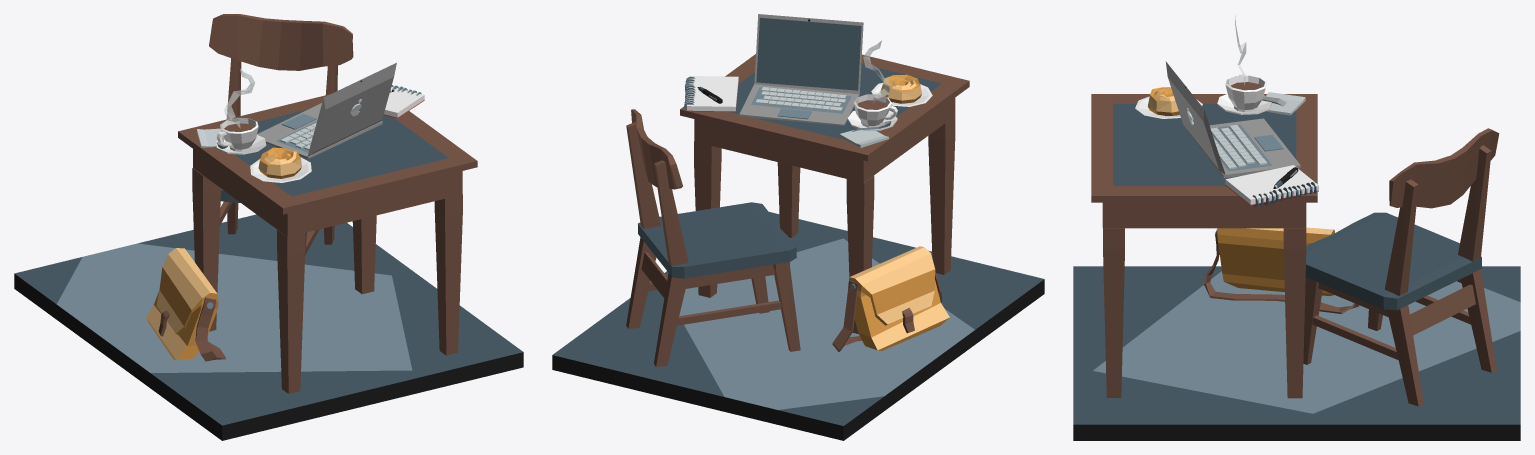
The model's file is WorkCappuccino.glb.
3 views of the same model, side by side, from view 1: azimuth 30°, elevation 25°; view 2: azimuth 150°, elevation 25°; view 3: azimuth 270°, elevation 25° (orthographic). The views are drawn at different scales.
Visible parts, largest first — view 1: group2110028310; view 2: group2110028310; view 3: group2110028310.
Part boxes in pixels (bbox=[...]): group2110028310: bbox=[14, 14, 523, 440]; group2110028310: bbox=[552, 14, 1044, 440]; group2110028310: bbox=[1073, 16, 1520, 440].
Size of the model in its own units: 1.44 by 1.35 by 1.72.
